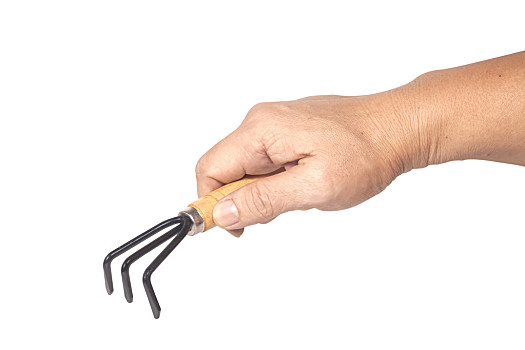no-phone: (99, 82, 423, 308)
